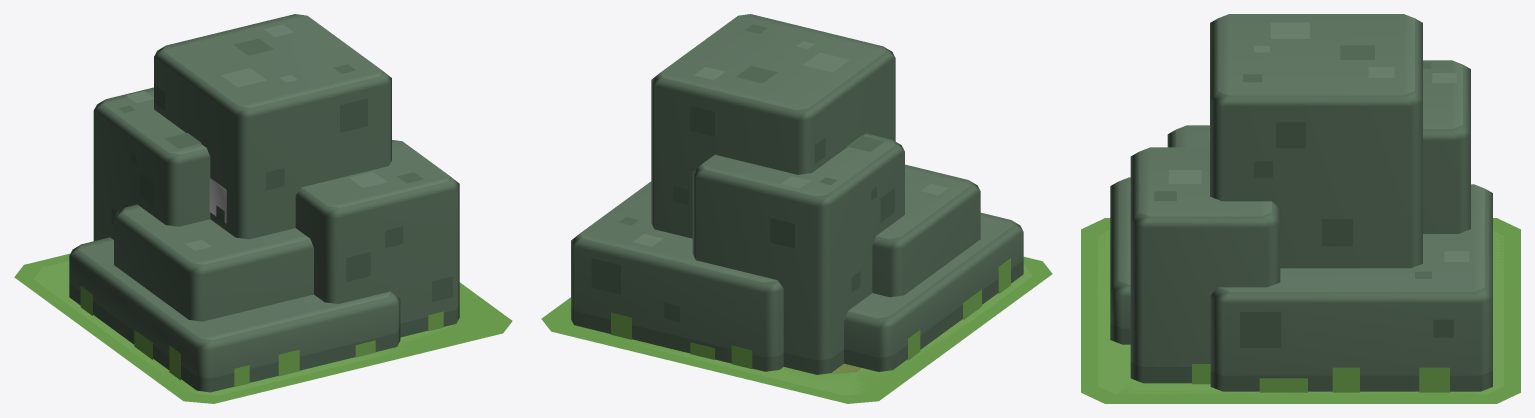
File: B_grass1_rock02.fbx
3 renders of one model, left to right at view 1: azimuth 30°, elevation 25°; view 2: azimuth 150°, elevation 25°; view 3: azimuth 270°, elevation 25°, orthographic. The views are drawn at different scales.
Parts seen in each view (by area): view 1: model 1, model, model06; view 2: model 1, model; view 3: model 1, model.
Part boxes in pixels (left/top/right/bottom): model 1: left=14, top=14, right=512, bottom=403; model: left=34, top=261, right=453, bottom=395; model06: left=209, top=178, right=226, bottom=223; model 1: left=541, top=14, right=1052, bottom=403; model: left=606, top=264, right=1032, bottom=395; model 1: left=1081, top=14, right=1520, bottom=403; model: left=1098, top=230, right=1503, bottom=396.
Bounding box in the file's own units: 4.49 × 3.02 × 4.49.
